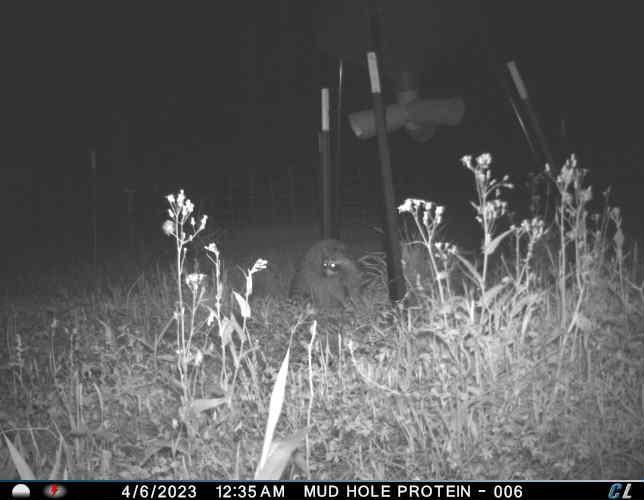Raccoon: (291, 236, 369, 314)
